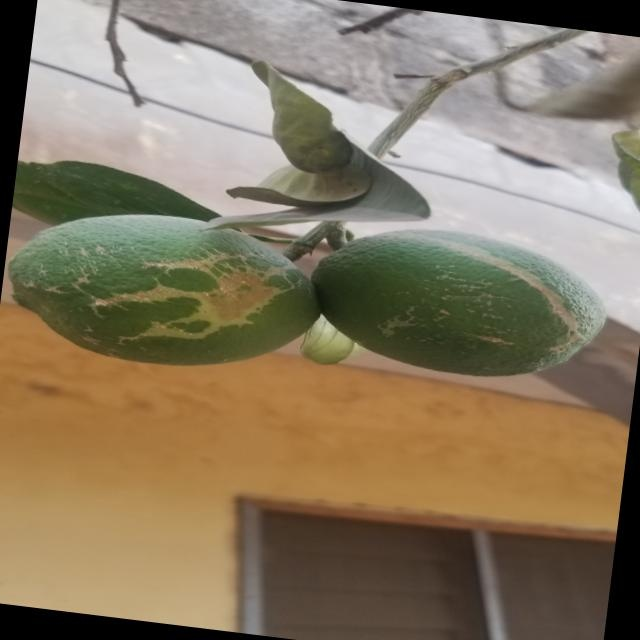agrume: (18, 195, 324, 378), (306, 218, 608, 390)
